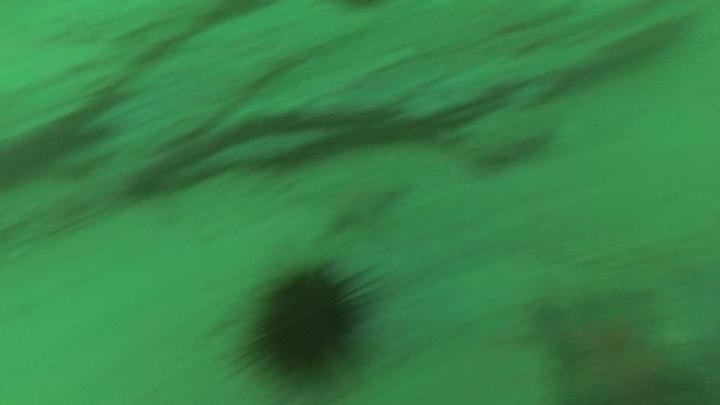echinus: (242, 259, 364, 384)
